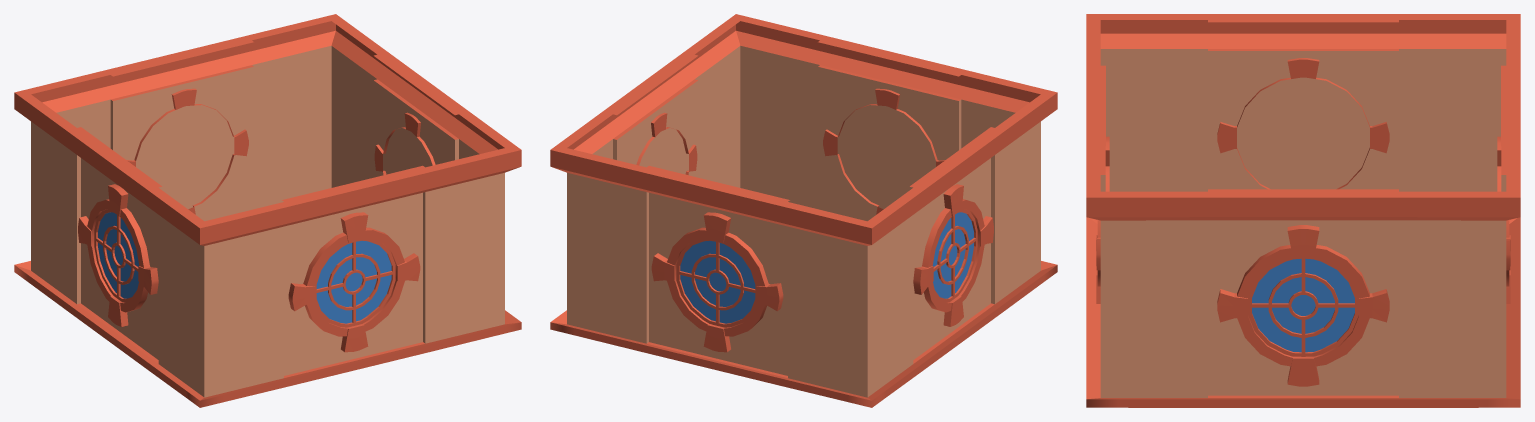
The model's file is TowerFloor2.fbx.
3 renders of one model, left to right at view 1: azimuth 30°, elevation 25°; view 2: azimuth 150°, elevation 25°; view 3: azimuth 270°, elevation 25°, orthographic. The views are drawn at different scales.
Parts seen in each view (by area): view 1: TowerFloor2; view 2: TowerFloor2; view 3: TowerFloor2.
Boxes of the visible parts, <box> form: TowerFloor2: <box>14,14,521,407</box>; TowerFloor2: <box>550,14,1057,407</box>; TowerFloor2: <box>1086,14,1520,407</box>.
Bounding box in the file's own units: 6.19 × 3.38 × 6.19.
